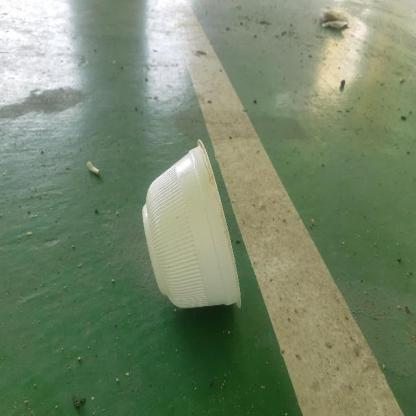Glass Cup: (143, 141, 242, 310), (143, 140, 241, 308)
